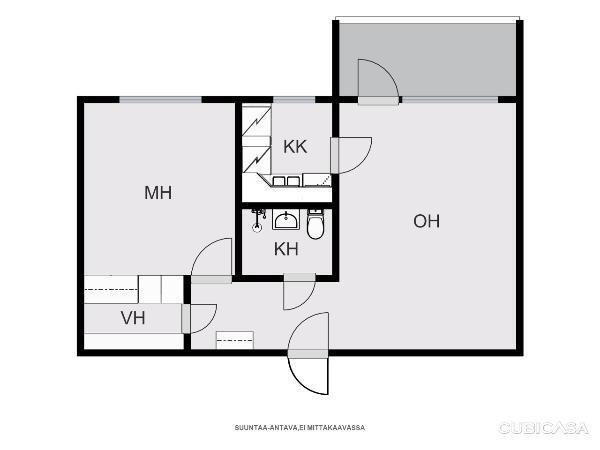bathroom: (241, 209, 332, 278)
door: (355, 55, 401, 110), (285, 348, 333, 397), (189, 235, 236, 285), (285, 308, 331, 358), (328, 135, 374, 177), (279, 272, 318, 312), (186, 302, 219, 338)
perimeter: (76, 97, 524, 356)
window: (399, 93, 503, 107), (111, 93, 208, 105), (269, 94, 321, 104)
